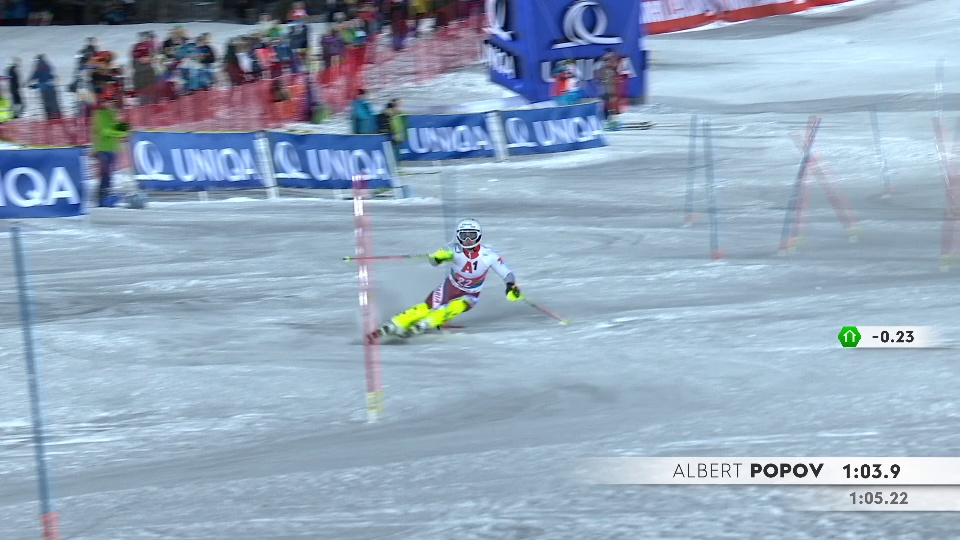a1: (462, 261, 480, 276)
uniqa: (128, 136, 255, 188), (539, 4, 636, 66), (507, 111, 595, 153), (402, 120, 490, 162), (285, 143, 373, 183), (484, 1, 525, 72)
